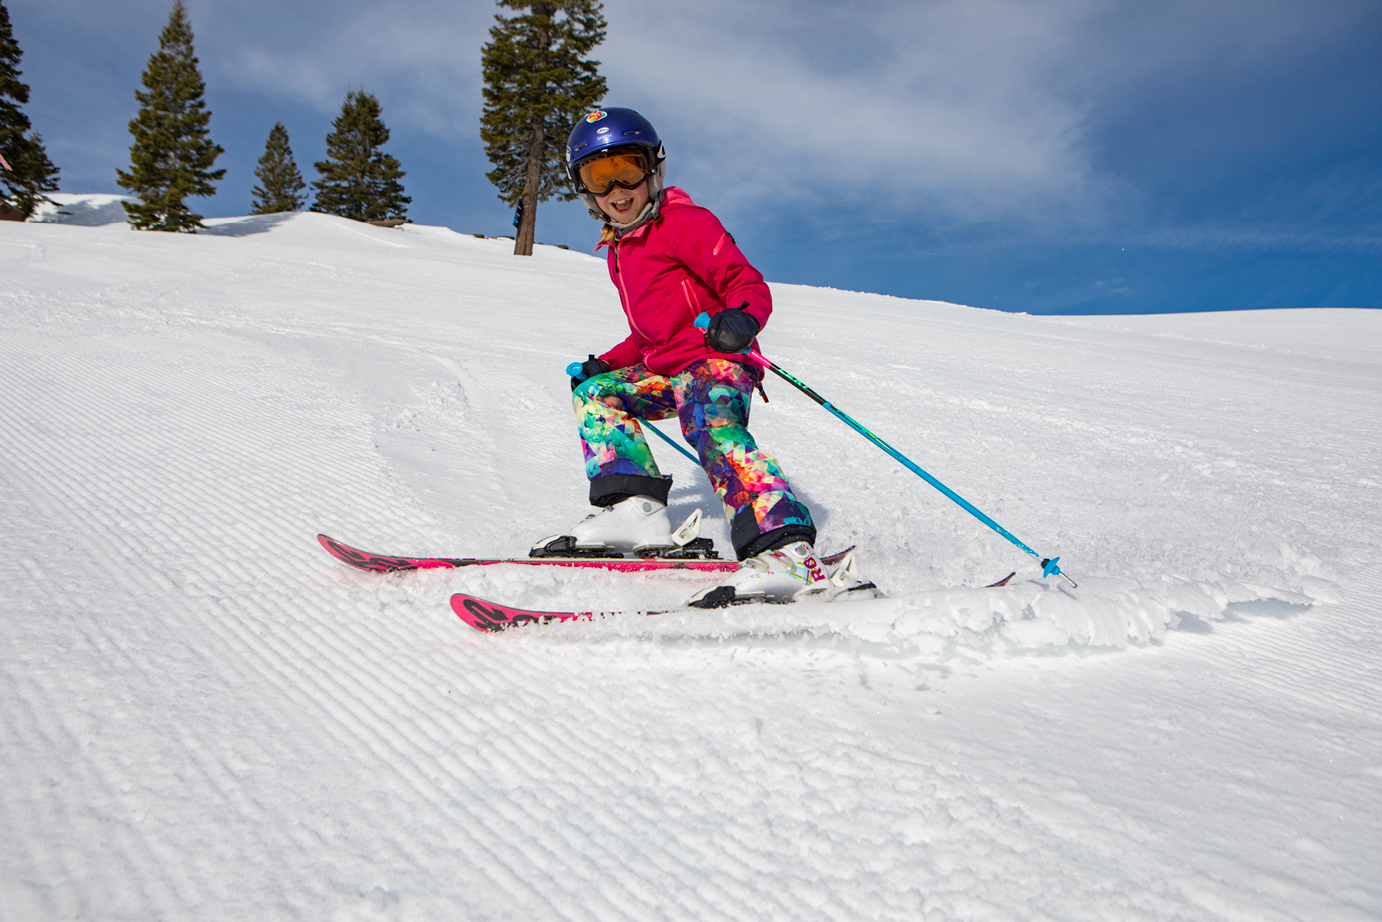skier: (275, 70, 1117, 676)
